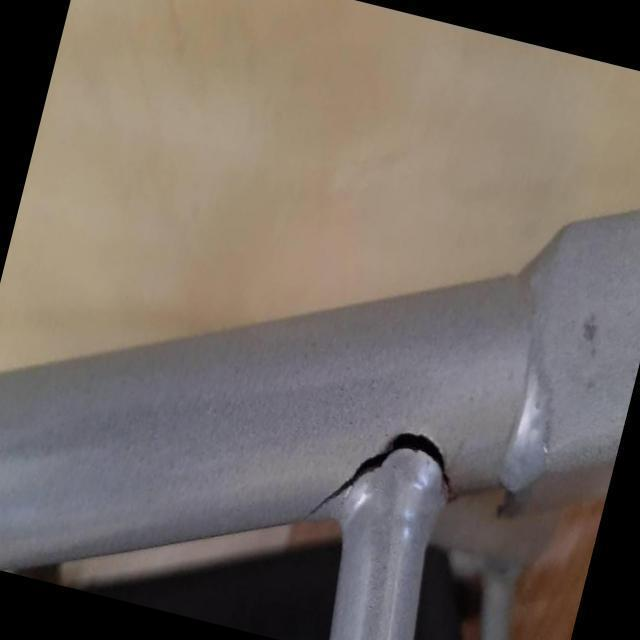defect: (299, 425, 461, 526)
